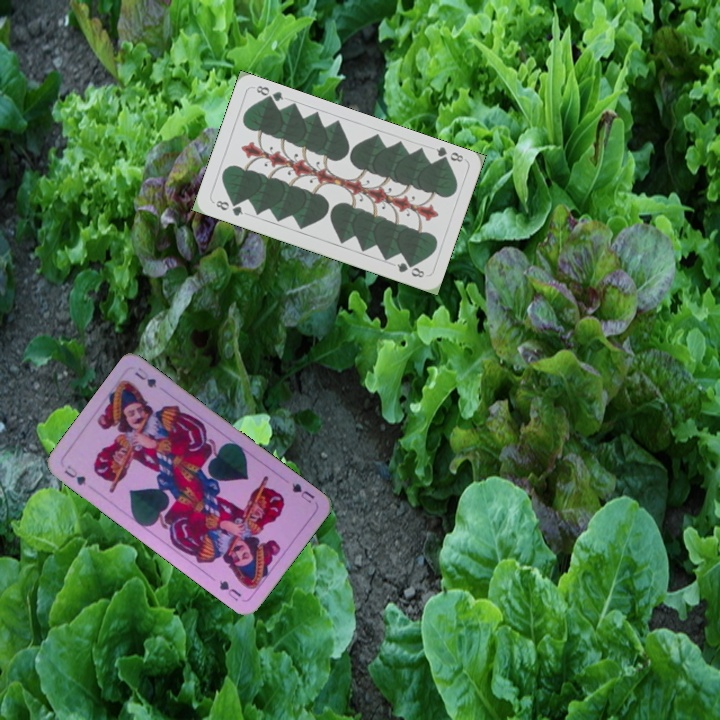G8: (432, 143, 466, 167), (212, 196, 246, 219)
GU: (288, 479, 317, 506), (60, 461, 89, 488)
